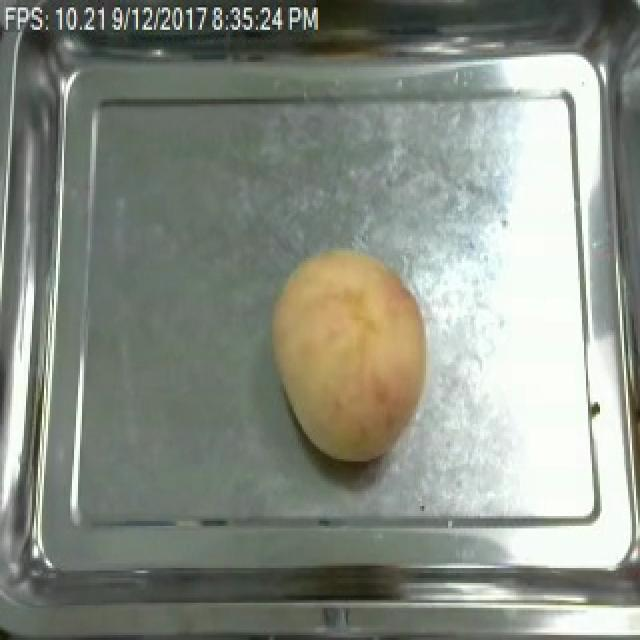Fruit: (266, 243, 440, 466)
